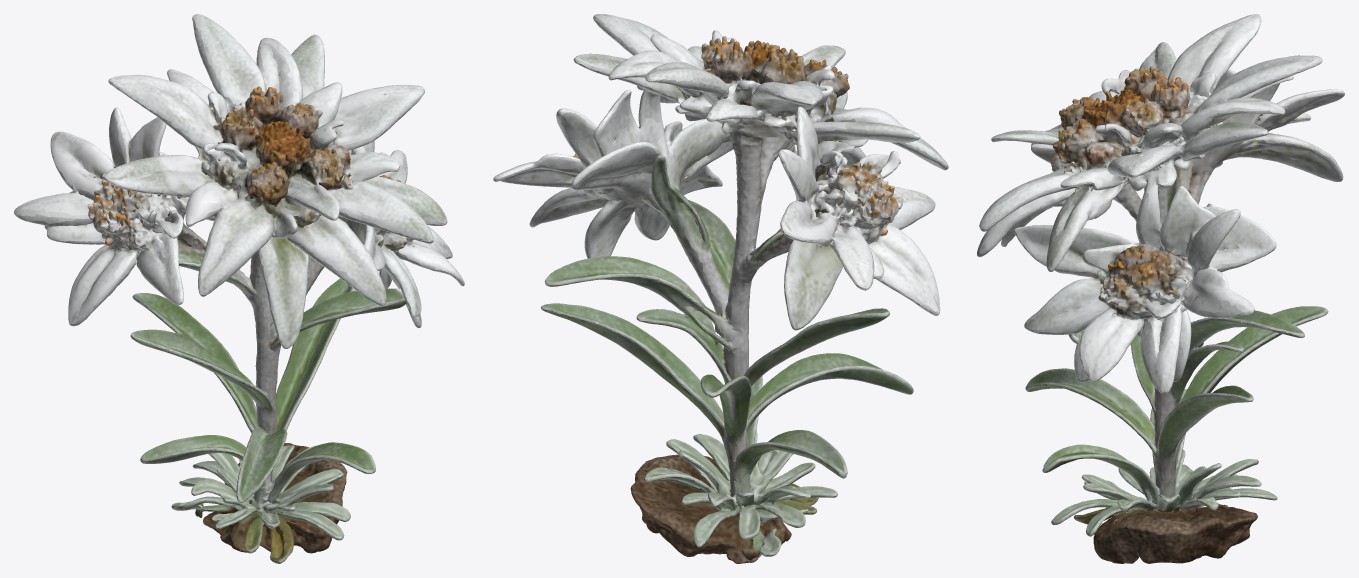
Rendered from mystery-4900732.glb.
3 views of the same model, side by side, from view 1: azimuth 30°, elevation 25°; view 2: azimuth 150°, elevation 25°; view 3: azimuth 270°, elevation 25° (orthographic). The views are drawn at different scales.
Parts seen in each view (by area): view 1: world; view 2: world; view 3: world.
Boxes of the visible parts, left/top/right/bottom form: world: left=14, top=14, right=464, bottom=563; world: left=493, top=14, right=948, bottom=563; world: left=977, top=14, right=1344, bottom=563.
Bounding box in the file's own units: 0.1851 × 0.22 × 0.1499.
Materials: 1 (1 with a texture image).
